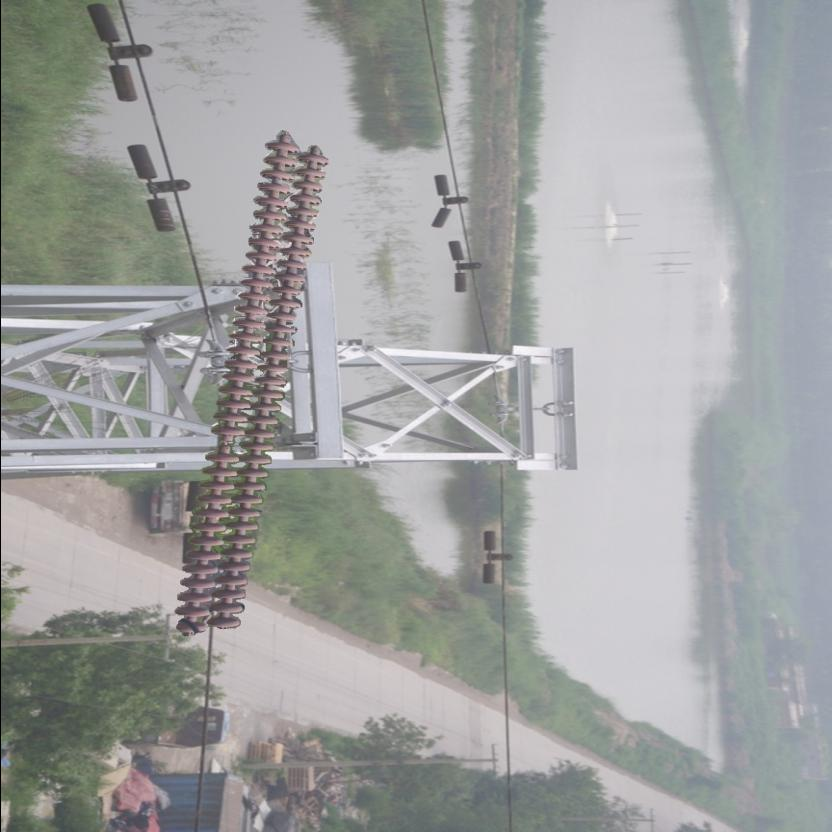defect: (204, 421, 250, 466)
